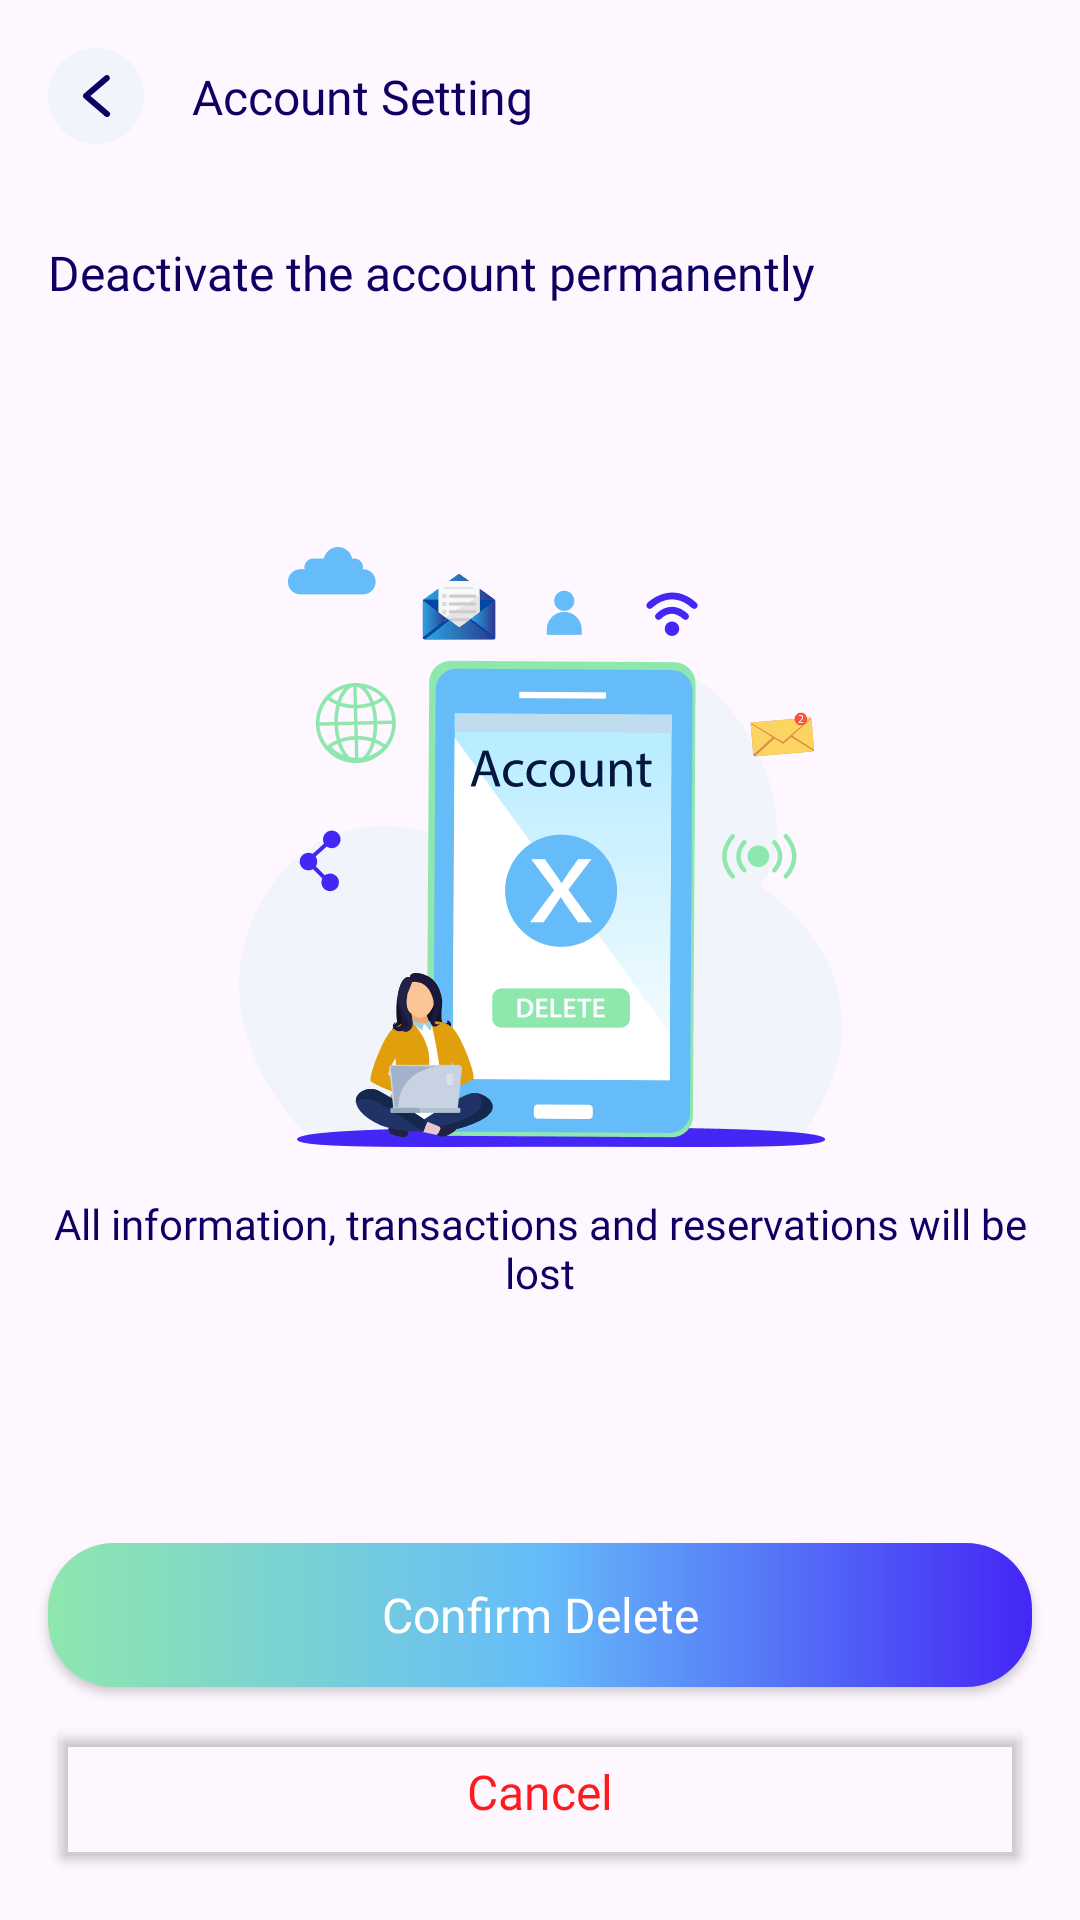

Locate icon controls on the screen. Image size 1080 x 1920, boxes as {"left": x1, "top": y1, "right": x2, "bottom": y2}.
Back Arrow: {"left": 48, "top": 48, "right": 144, "bottom": 144}
